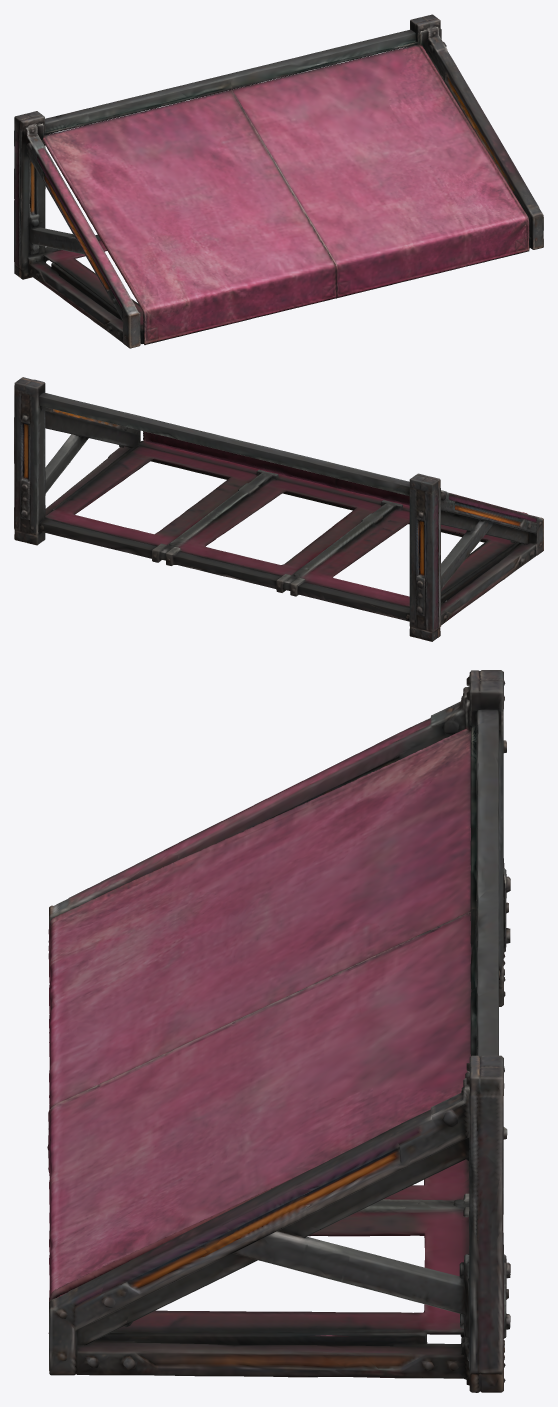
The model's file is kairox-shop-awning.glb.
3 renders of one model, top to bottom at view 1: azimuth 30°, elevation 25°; view 2: azimuth 150°, elevation 25°; view 3: azimuth 270°, elevation 25°, orthographic. The views are drawn at different scales.
Visible parts, largest first — view 1: kairox-shop-awning; view 2: kairox-shop-awning; view 3: kairox-shop-awning.
Boxes of the visible parts, bbox=[...] form: kairox-shop-awning: bbox=[14, 14, 543, 348]; kairox-shop-awning: bbox=[14, 377, 543, 641]; kairox-shop-awning: bbox=[47, 670, 510, 1392].
Size of the model in its own units: 4 by 1.44 by 1.91.
Materials: 1 (1 with a texture image).
